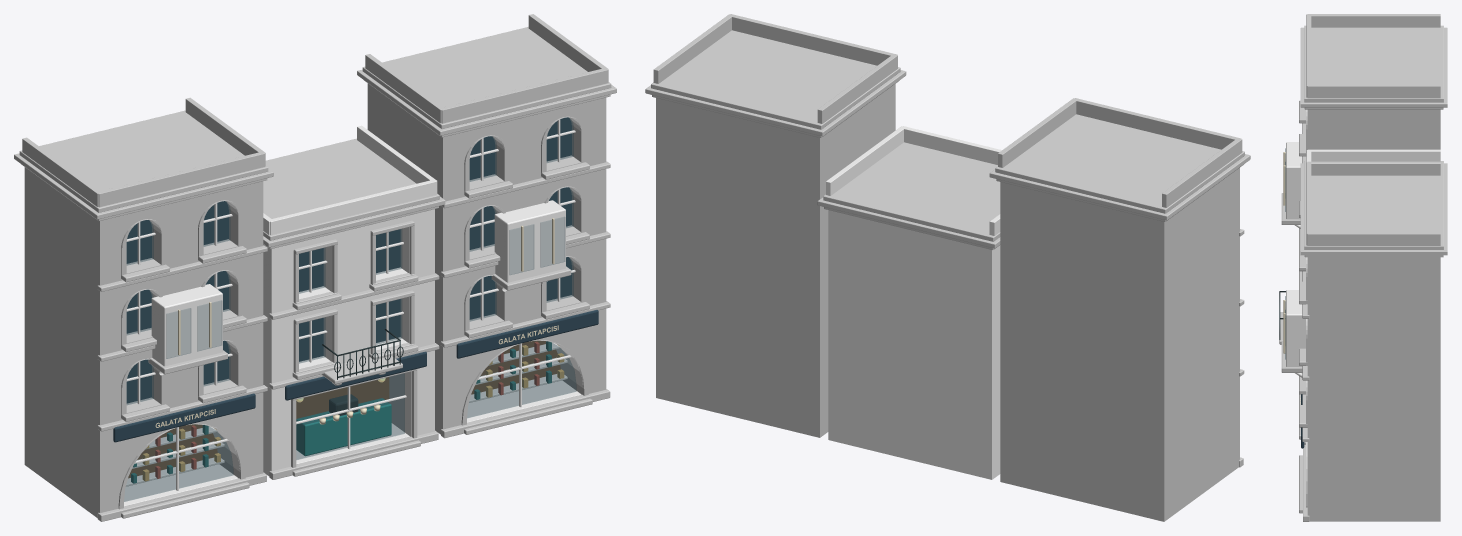
Rendered from DistrictBlock_4_2.glb.
3 renders of one model, left to right at view 1: azimuth 30°, elevation 25°; view 2: azimuth 150°, elevation 25°; view 3: azimuth 270°, elevation 25°, orthographic. The views are drawn at different scales.
Parts seen in each view (by area): view 1: RK_DistrictBlock_4_2_LC_Lime, RK_DistrictBlock_4_2_LC_Glass, RK_DistrictBlock_4_2_LC_Brick, RK_DistrictBlock_4_2_LC_Wood, RK_DistrictBlock_4_2_LC_Ink, RK_DistrictBlock_4_2_LC_Teal, RK_DistrictBlock_4_2_LC_Interior, RK_DistrictBlock_4_2_LC_Iron, RK_DistrictBlock_4_2_LC_Canvas, RK_DistrictBlock_4_2_LC_Gold, RK_DistrictBlock_4_2_LC_Red; view 2: RK_DistrictBlock_4_2_LC_Lime, RK_DistrictBlock_4_2_LC_Brick; view 3: RK_DistrictBlock_4_2_LC_Lime, RK_DistrictBlock_4_2_LC_Wood, RK_DistrictBlock_4_2_LC_Brick, RK_DistrictBlock_4_2_LC_Canvas.
Part boxes in pixels (bbox=[...]): RK_DistrictBlock_4_2_LC_Lime: bbox=[14, 14, 616, 521]; RK_DistrictBlock_4_2_LC_Glass: bbox=[124, 117, 576, 501]; RK_DistrictBlock_4_2_LC_Brick: bbox=[263, 125, 437, 475]; RK_DistrictBlock_4_2_LC_Wood: bbox=[124, 119, 581, 506]; RK_DistrictBlock_4_2_LC_Ink: bbox=[113, 117, 598, 442]; RK_DistrictBlock_4_2_LC_Teal: bbox=[131, 341, 551, 483]; RK_DistrictBlock_4_2_LC_Interior: bbox=[128, 340, 560, 478]; RK_DistrictBlock_4_2_LC_Iron: bbox=[322, 329, 403, 415]; RK_DistrictBlock_4_2_LC_Canvas: bbox=[155, 218, 558, 427]; RK_DistrictBlock_4_2_LC_Gold: bbox=[142, 345, 564, 481]; RK_DistrictBlock_4_2_LC_Red: bbox=[155, 341, 539, 478]; RK_DistrictBlock_4_2_LC_Lime: bbox=[645, 14, 1250, 521]; RK_DistrictBlock_4_2_LC_Brick: bbox=[826, 126, 1001, 479]; RK_DistrictBlock_4_2_LC_Lime: bbox=[1279, 14, 1447, 521]; RK_DistrictBlock_4_2_LC_Wood: bbox=[1286, 142, 1305, 377]; RK_DistrictBlock_4_2_LC_Brick: bbox=[1306, 149, 1440, 162]; RK_DistrictBlock_4_2_LC_Canvas: bbox=[1283, 152, 1300, 404].
Size of the model in its own units: 19.1 by 11.47 by 6.07.
